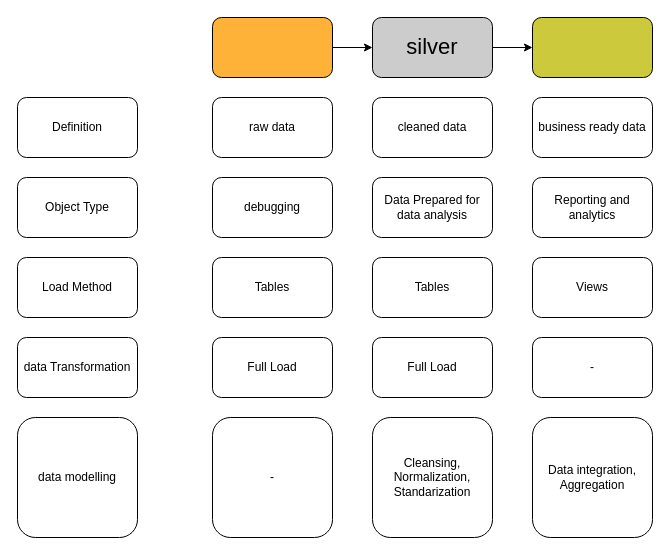
Image size: 670x555. Some labels were removed from this diagram. The shapes that lost their labels are listed below. From the top down, each one's box as (x1, y1, x2, y2) in pixels, then its label:
(212, 16, 332, 78): bronze
(532, 16, 652, 78): gold
